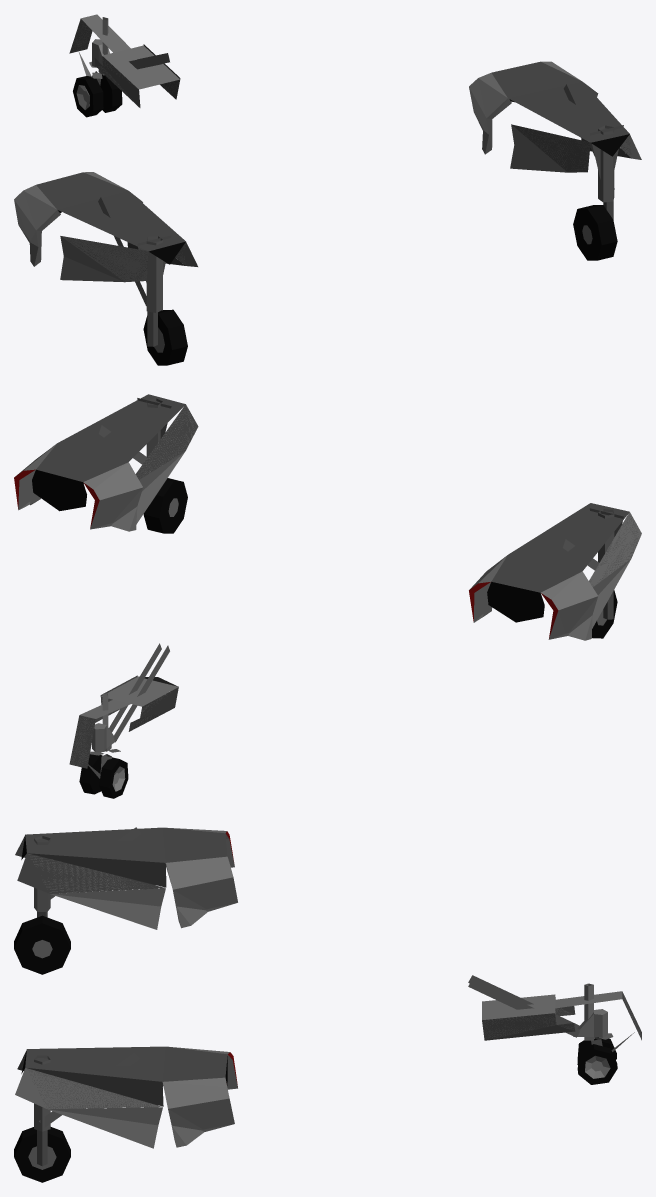
File: Gear_US2ANP.obj
The picture shows the model from 3 angles, top to bottom: view 1: azimuth 30°, elevation 25°; view 2: azimuth 150°, elevation 25°; view 3: azimuth 270°, elevation 25°; orthographic projection.
Parts seen in each view (by area): view 1: ShapeIndexedFaceSet.155_ShapeIndexedFaceSet.156, ShapeIndexedFaceSet.123_ShapeIndexedFaceSet.124, ShapeIndexedFaceSet.148_ShapeIndexedFaceSet.149, ShapeIndexedFaceSet.211_ShapeIndexedFaceSet.212, ShapeIndexedFaceSet.088_ShapeIndexedFaceSet.089, ShapeIndexedFaceSet.117_ShapeIndexedFaceSet.118, ShapeIndexedFaceSet.116_ShapeIndexedFaceSet.117, ShapeIndexedFaceSet.142_ShapeIndexedFaceSet.143, ShapeIndexedFaceSet.080_ShapeIndexedFaceSet.081, ShapeIndexedFaceSet.110_ShapeIndexedFaceSet.111, ShapeIndexedFaceSet.215_ShapeIndexedFaceSet.216, ShapeIndexedFaceSet.082_ShapeIndexedFaceSet.083 (+4 smaller); view 2: ShapeIndexedFaceSet.155_ShapeIndexedFaceSet.156, ShapeIndexedFaceSet.123_ShapeIndexedFaceSet.124, ShapeIndexedFaceSet.110_ShapeIndexedFaceSet.111, ShapeIndexedFaceSet.142_ShapeIndexedFaceSet.143, ShapeIndexedFaceSet.148_ShapeIndexedFaceSet.149, ShapeIndexedFaceSet.117_ShapeIndexedFaceSet.118, ShapeIndexedFaceSet.154_ShapeIndexedFaceSet.155, ShapeIndexedFaceSet.088_ShapeIndexedFaceSet.089, ShapeIndexedFaceSet.122_ShapeIndexedFaceSet.123, ShapeIndexedFaceSet.211_ShapeIndexedFaceSet.212, ShapeIndexedFaceSet.215_ShapeIndexedFaceSet.216, ShapeIndexedFaceSet.116_ShapeIndexedFaceSet.117 (+2 smaller); view 3: ShapeIndexedFaceSet.123_ShapeIndexedFaceSet.124, ShapeIndexedFaceSet.155_ShapeIndexedFaceSet.156, ShapeIndexedFaceSet.118_ShapeIndexedFaceSet.119, ShapeIndexedFaceSet.113_ShapeIndexedFaceSet.114, ShapeIndexedFaceSet.145_ShapeIndexedFaceSet.146, ShapeIndexedFaceSet.150_ShapeIndexedFaceSet.151, ShapeIndexedFaceSet.151_ShapeIndexedFaceSet.152, ShapeIndexedFaceSet.080_ShapeIndexedFaceSet.081, ShapeIndexedFaceSet.088_ShapeIndexedFaceSet.089, ShapeIndexedFaceSet.211_ShapeIndexedFaceSet.212, ShapeIndexedFaceSet.210_ShapeIndexedFaceSet.211, ShapeIndexedFaceSet.215_ShapeIndexedFaceSet.216 (+3 smaller).
Part boxes in pixels (x1,y1,x2,y2): ShapeIndexedFaceSet.155_ShapeIndexedFaceSet.156: (36, 172, 185, 251); ShapeIndexedFaceSet.123_ShapeIndexedFaceSet.124: (491, 61, 629, 142); ShapeIndexedFaceSet.148_ShapeIndexedFaceSet.149: (60, 236, 148, 282); ShapeIndexedFaceSet.211_ShapeIndexedFaceSet.212: (81, 14, 179, 89); ShapeIndexedFaceSet.088_ShapeIndexedFaceSet.089: (573, 205, 617, 260); ShapeIndexedFaceSet.117_ShapeIndexedFaceSet.118: (511, 124, 590, 172); ShapeIndexedFaceSet.116_ShapeIndexedFaceSet.117: (510, 124, 589, 172); ShapeIndexedFaceSet.142_ShapeIndexedFaceSet.143: (14, 185, 56, 266); ShapeIndexedFaceSet.080_ShapeIndexedFaceSet.081: (143, 309, 187, 365); ShapeIndexedFaceSet.110_ShapeIndexedFaceSet.111: (469, 73, 507, 153); ShapeIndexedFaceSet.215_ShapeIndexedFaceSet.216: (73, 75, 122, 117); ShapeIndexedFaceSet.082_ShapeIndexedFaceSet.083: (146, 236, 162, 312); ShapeIndexedFaceSet.155_ShapeIndexedFaceSet.156: (491, 503, 629, 592); ShapeIndexedFaceSet.123_ShapeIndexedFaceSet.124: (36, 394, 185, 481); ShapeIndexedFaceSet.110_ShapeIndexedFaceSet.111: (83, 462, 142, 531); ShapeIndexedFaceSet.142_ShapeIndexedFaceSet.143: (541, 571, 598, 640); ShapeIndexedFaceSet.148_ShapeIndexedFaceSet.149: (589, 512, 641, 628); ShapeIndexedFaceSet.117_ShapeIndexedFaceSet.118: (135, 405, 198, 479); ShapeIndexedFaceSet.154_ShapeIndexedFaceSet.155: (487, 582, 544, 622); ShapeIndexedFaceSet.088_ShapeIndexedFaceSet.089: (143, 478, 187, 533); ShapeIndexedFaceSet.122_ShapeIndexedFaceSet.123: (32, 469, 86, 511); ShapeIndexedFaceSet.211_ShapeIndexedFaceSet.212: (80, 677, 178, 718); ShapeIndexedFaceSet.215_ShapeIndexedFaceSet.216: (79, 754, 128, 798); ShapeIndexedFaceSet.116_ShapeIndexedFaceSet.117: (136, 405, 195, 523); ShapeIndexedFaceSet.123_ShapeIndexedFaceSet.124: (25, 1046, 227, 1106); ShapeIndexedFaceSet.155_ShapeIndexedFaceSet.156: (25, 827, 227, 887); ShapeIndexedFaceSet.118_ShapeIndexedFaceSet.119: (15, 1067, 162, 1148); ShapeIndexedFaceSet.113_ShapeIndexedFaceSet.114: (162, 1077, 234, 1147); ShapeIndexedFaceSet.145_ShapeIndexedFaceSet.146: (166, 856, 237, 928); ShapeIndexedFaceSet.150_ShapeIndexedFaceSet.151: (28, 854, 165, 929); ShapeIndexedFaceSet.151_ShapeIndexedFaceSet.152: (17, 853, 164, 893); ShapeIndexedFaceSet.080_ShapeIndexedFaceSet.081: (14, 915, 70, 974); ShapeIndexedFaceSet.088_ShapeIndexedFaceSet.089: (14, 1127, 70, 1182); ShapeIndexedFaceSet.211_ShapeIndexedFaceSet.212: (482, 991, 622, 1020); ShapeIndexedFaceSet.210_ShapeIndexedFaceSet.211: (482, 1013, 575, 1040); ShapeIndexedFaceSet.215_ShapeIndexedFaceSet.216: (577, 1037, 617, 1084).
Size of the model in its own units: 81.5 by 19.56 by 79.49.
